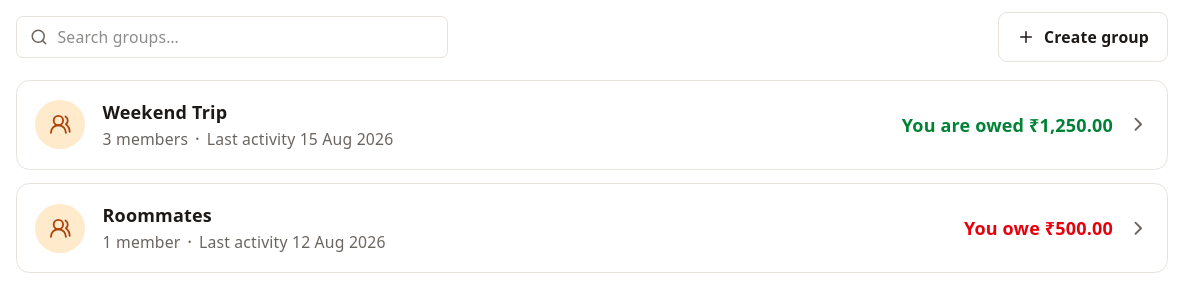
Test: GroupsPage › search › shows a no-match message when nothing matches the search
The width and height of the screenshot is (1185, 305).
In the search field labelled "Search groups…": [232, 37] box [16, 16, 448, 58], type "nobody"
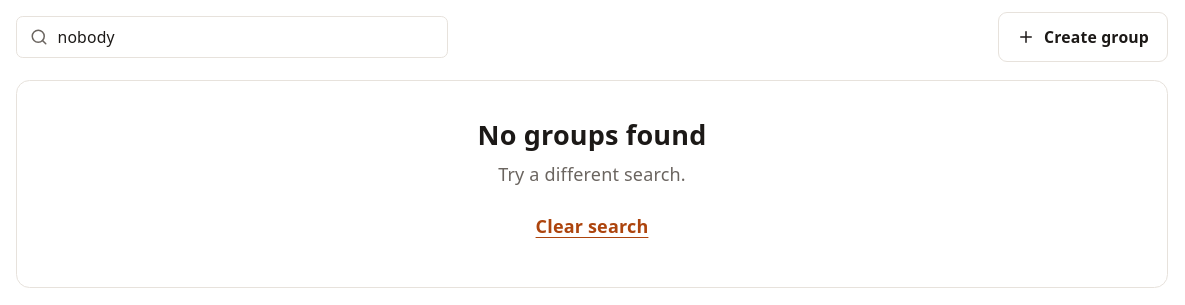
expect the heading "No groups found" is shown: met, box [478, 116, 706, 152]
expect the text "Try a different search." is shown: met, box [498, 162, 686, 186]
expect the link "Weekend Trip" is gone: met
